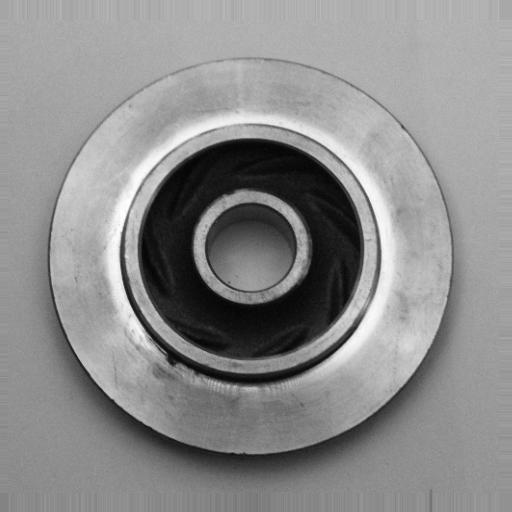crack: (158, 339, 191, 377)
unpolished_casting: (47, 54, 456, 460)
